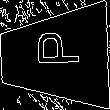P_W: (28, 37, 81, 76)
